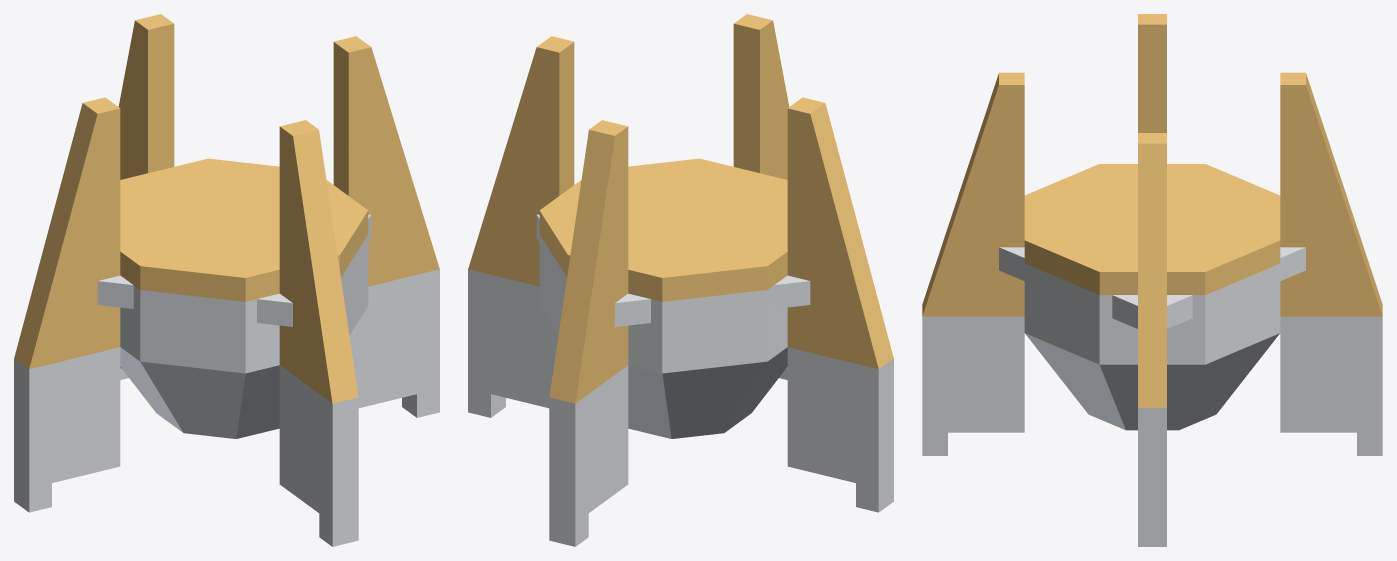
The model's file is rocket_baseA.glb.
3 views of the same model, side by side, from view 1: azimuth 30°, elevation 25°; view 2: azimuth 150°, elevation 25°; view 3: azimuth 270°, elevation 25° (orthographic). The views are drawn at different scales.
Parts seen in each view (by area): view 1: rocket_baseA; view 2: rocket_baseA; view 3: rocket_baseA.
Part boxes in pixels (x1,y1,x2,y2): rocket_baseA: [14, 14, 439, 546]; rocket_baseA: [468, 14, 893, 546]; rocket_baseA: [922, 14, 1382, 546].
Size of the model in its own units: 1.8 by 1.6 by 1.8.
